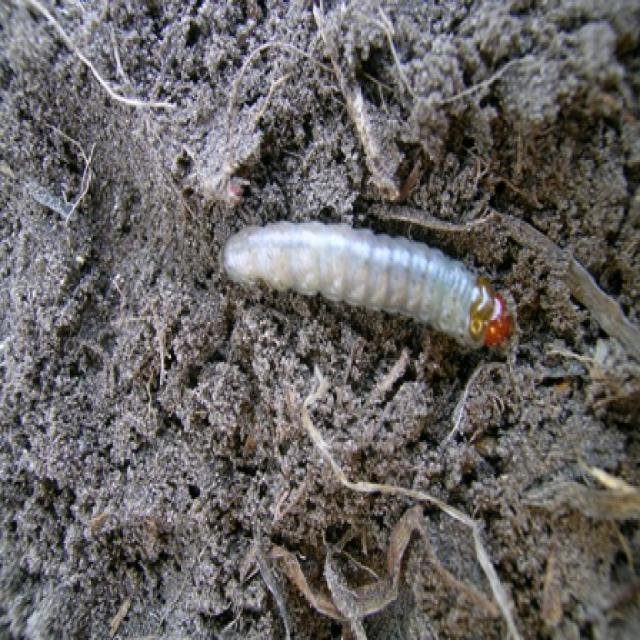Cutworm: (227, 220, 517, 362)
